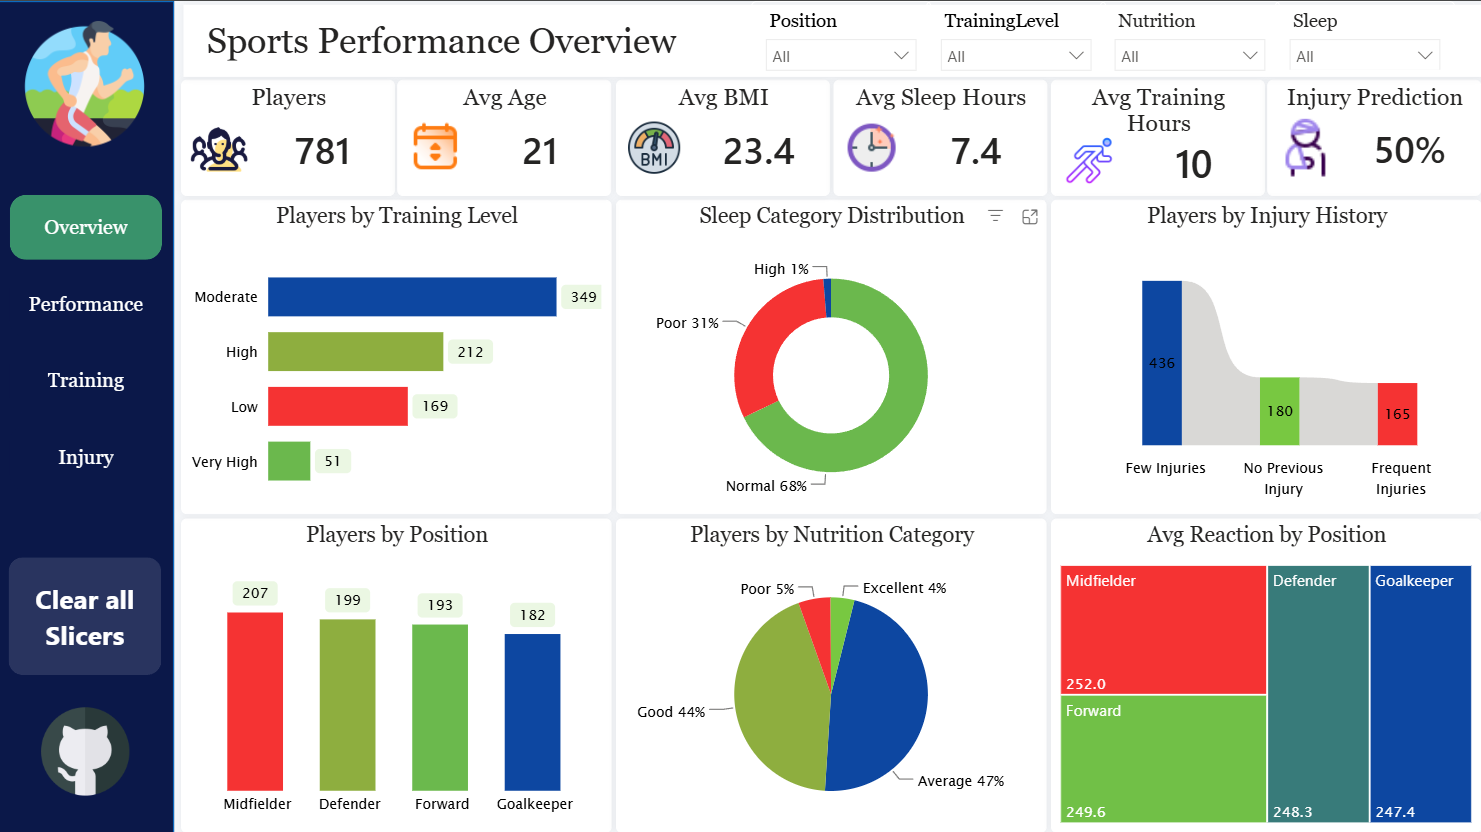

This screenshot's page, from the dashboard's own definition file:
{"tool":"powerbi","page":{"name":"Overview","canvas":[1280,720],"ordinal":0},"visuals":[{"type":"shape","box":[0,0,153.2,720.2],"z":0},{"type":"clusteredColumnChart","title":"Players by Position","fields":{"Category":["Dim_Position.Position"],"Y":["All Measures.Total Players"]},"box":[159,445,370,270],"z":1000},{"type":"pieChart","title":"Players by Nutrition Category","fields":{"Category":["Dim_Nutrition.Nutrition_Category"],"Y":["All Measures.Total Players"]},"box":[533,445,370,270],"z":2000},{"type":"donutChart","title":"Sleep Category Distribution","fields":{"Category":["Dim_SleepCategory.Sleep_Category"],"Y":["All Measures.Total Players"]},"box":[533.2,171,370,270],"z":3000},{"type":"barChart","title":"Players by Training Level","fields":{"Category":["Dim_TrainingLevel.TrainingLevel"],"Y":["All Measures.Total Players"]},"box":[159.3,171,370,270],"z":4000},{"type":"cardVisual","title":"Players","fields":{"Data":["All Measures.Total Players"]},"box":[159.3,68,184,100],"z":5000},{"type":"cardVisual","title":"Avg Age","fields":{"Data":["All Measures.Average Age"]},"box":[345,68,184,100],"z":6000},{"type":"cardVisual","title":"Avg BMI","fields":{"Data":["All Measures.Average BMI"]},"box":[533.2,68,184,100],"z":7000},{"type":"cardVisual","title":"Avg Sleep Hours","fields":{"Data":["All Measures.Avg Sleep Hours"]},"box":[720.2,68,184,100],"z":8000},{"type":"cardVisual","title":"Avg Training Hours","fields":{"Data":["All Measures.Avg Training Hours"]},"box":[907.2,68,184,100],"z":9000},{"type":"cardVisual","title":"Injury Prediction","fields":{"Data":["All Measures.Injury Prediction %"]},"box":[1093,68,184,100],"z":10000},{"type":"treemap","title":"Avg Reaction by Position","fields":{"Group":["Dim_Position.Position"],"Values":["All Measures.Avg Reaction Time"]},"box":[907,445,370,270],"z":11000},{"type":"ribbonChart","title":"Players by Injury History","fields":{"Category":["Dim_InjuryHistory.Injury_History"],"Y":["All Measures.Players"]},"box":[907.2,171.3,370,270],"z":12000},{"type":"shape","box":[159.3,3.6,1118.4,62],"z":13000},{"type":"slicer","title":"Training Level Distribution","fields":{"Values":["Dim_Position.Position"]},"box":[650,0,155,63.9],"z":14000},{"type":"slicer","title":"Training Level Distribution","fields":{"Values":["Dim_TrainingLevel.TrainingLevel"]},"box":[800,0,155,62.7],"z":15000},{"type":"slicer","title":"Training Level Distribution","fields":{"Values":["Dim_Nutrition.Nutrition_Category"]},"box":[950,0,155,63.9],"z":16000},{"type":"slicer","title":"Training Level Distribution","fields":{"Values":["Dim_SleepCategory.Sleep_Category"]},"box":[1100,0,155,60.3],"z":17000},{"type":"image","box":[13.5,9.8,130.1,139.9],"z":18000},{"type":"pageNavigator","box":[12.3,166.9,131.5,257],"z":19000},{"type":"image","box":[35.6,592.6,85.9,93.3],"z":20000},{"type":"actionButton","box":[0,489.6,153.4,50.3],"z":21000}]}

Visuals, with their boxes on the page's 1280x720 design canvas (x1, y1, x2, y2). These are canvas units, not pixel positions in the 1481x832 screenshot, which may show the page scaled, cropped or inside an application window:
shape: box=[0, 0, 153, 720]
"Players by Position" clusteredColumnChart: box=[159, 445, 529, 715]
"Players by Nutrition Category" pieChart: box=[533, 445, 903, 715]
"Sleep Category Distribution" donutChart: box=[533, 171, 903, 441]
"Players by Training Level" barChart: box=[159, 171, 529, 441]
"Players" cardVisual: box=[159, 68, 343, 168]
"Avg Age" cardVisual: box=[345, 68, 529, 168]
"Avg BMI" cardVisual: box=[533, 68, 717, 168]
"Avg Sleep Hours" cardVisual: box=[720, 68, 904, 168]
"Avg Training Hours" cardVisual: box=[907, 68, 1091, 168]
"Injury Prediction" cardVisual: box=[1093, 68, 1277, 168]
"Avg Reaction by Position" treemap: box=[907, 445, 1277, 715]
"Players by Injury History" ribbonChart: box=[907, 171, 1277, 441]
shape: box=[159, 4, 1278, 66]
"Training Level Distribution" slicer: box=[650, 0, 805, 64]
"Training Level Distribution" slicer: box=[800, 0, 955, 63]
"Training Level Distribution" slicer: box=[950, 0, 1105, 64]
"Training Level Distribution" slicer: box=[1100, 0, 1255, 60]
image: box=[14, 10, 144, 150]
pageNavigator: box=[12, 167, 144, 424]
image: box=[36, 593, 122, 686]
actionButton: box=[0, 490, 153, 540]
